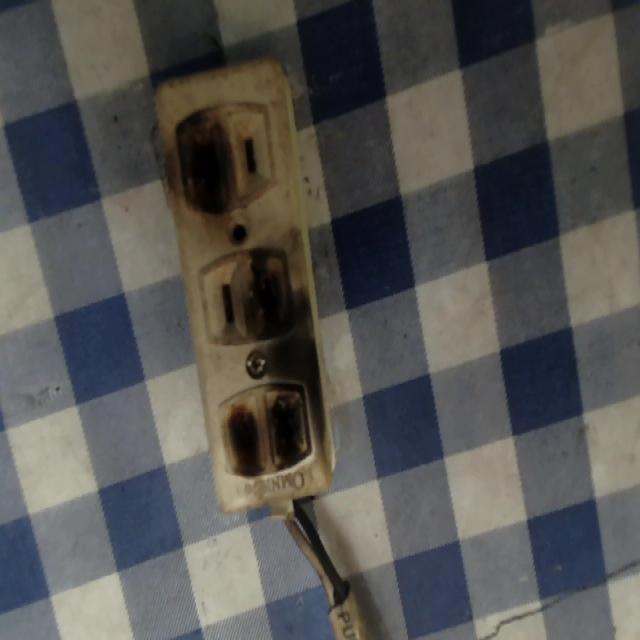-: (205, 374, 328, 486), (171, 97, 241, 225), (242, 246, 304, 346)
